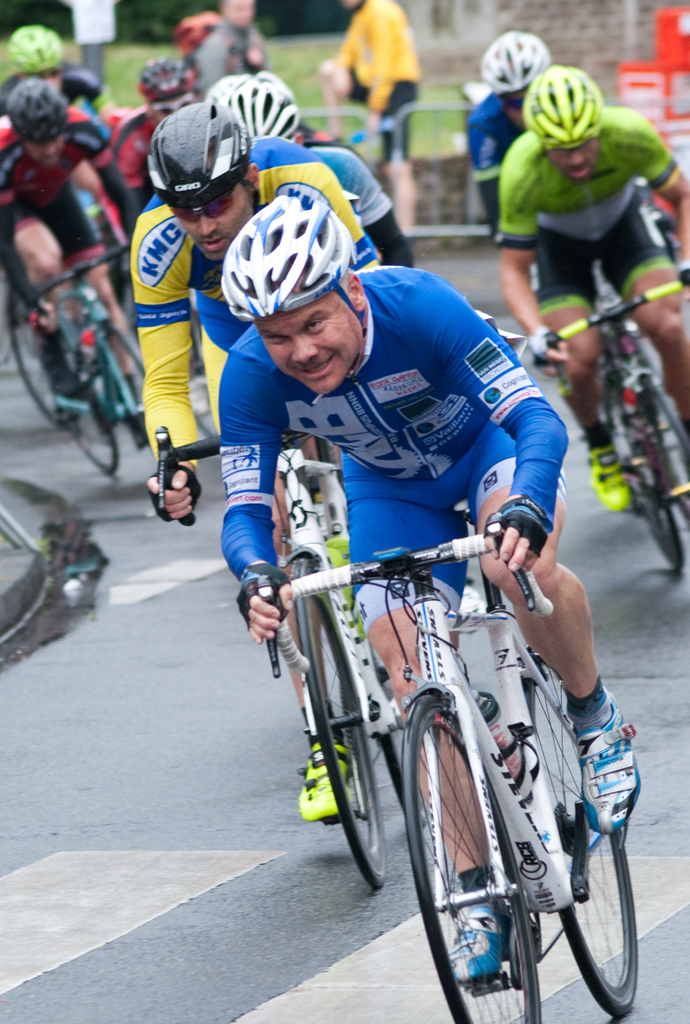Bike: (263, 523, 667, 1023)
